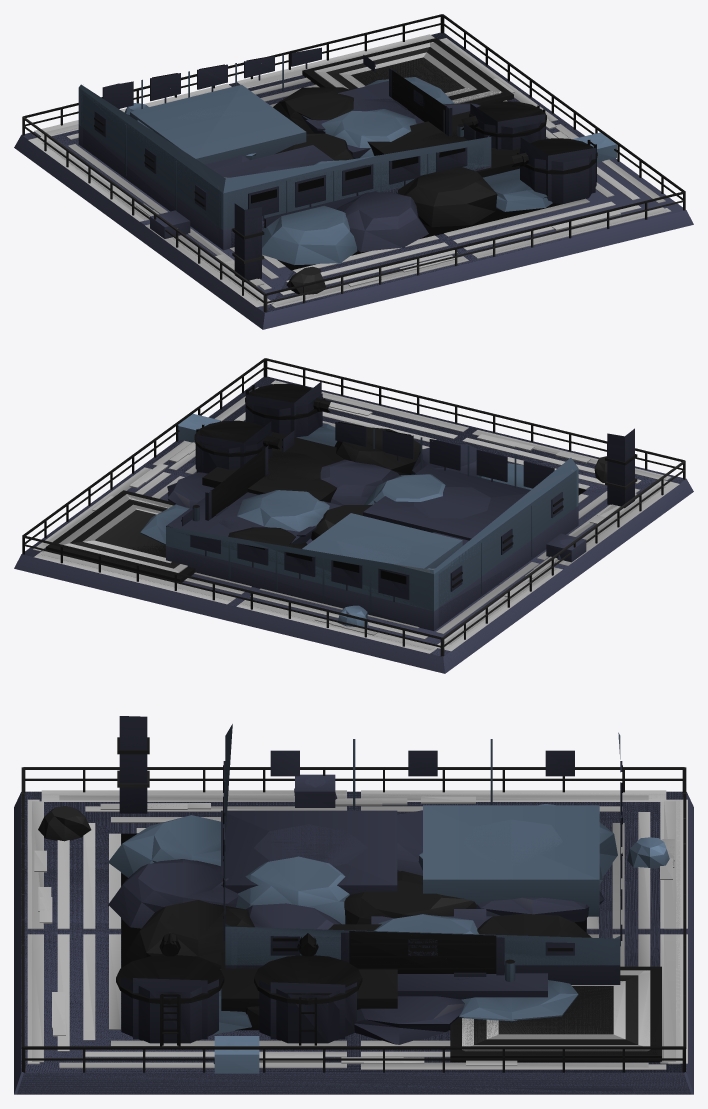
File: veyran_construction_center_heavily_damaged.glb
3 views of the same model, one above another, from view 1: azimuth 30°, elevation 25°; view 2: azimuth 150°, elevation 25°; view 3: azimuth 270°, elevation 25° (orthographic). The views are drawn at different scales.
Visible parts, largest first — view 1: body (×3); view 2: body (×3); view 3: body (×3).
Part boxes in pixels (x1,y1,x2,y2): body (×3): (14, 14, 693, 329); body (×3): (14, 358, 693, 673); body (×3): (14, 716, 693, 1094).
Bounding box in the file's own units: 14.8 × 2.85 × 14.8.
